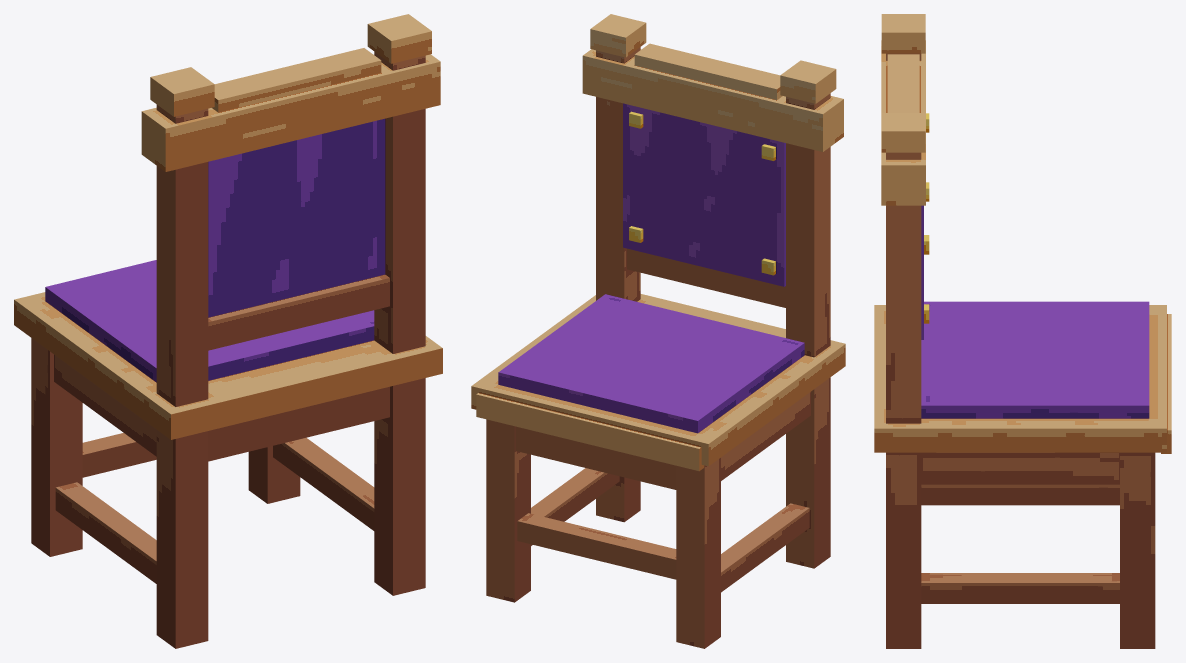
File: chair.gltf
3 renders of one model, left to right at view 1: azimuth 30°, elevation 25°; view 2: azimuth 150°, elevation 25°; view 3: azimuth 270°, elevation 25°, orthographic. The views are drawn at different scales.
Visible parts, largest first — view 1: cushion_back, leg_back_left, leg_back_right, seat_board, back_crest, cushion_seat, leg_front_left, back_rail_low, apron_back, back_crest_top, stretcher_side_left, stretcher_side_right (+5 smaller); view 2: cushion_seat, cushion_back, leg_back_left, seat_board, back_crest, leg_front_left, leg_back_right, leg_front_right, seat_board_lip, stretcher_front, apron_front, back_crest_top (+6 smaller); view 3: cushion_seat, leg_back_right, seat_board, leg_front_right, apron_side_right, stretcher_side_right, stretcher_side_left, back_crest, back_crest_top, leg_back_finial_right, leg_back_finial_left, seat_board_lip.
Part boxes in pixels (bbox=[...]): cushion_back: bbox=[208, 118, 385, 317]; leg_back_left: bbox=[156, 104, 208, 648]; leg_back_right: bbox=[374, 51, 425, 595]; seat_board: bbox=[14, 292, 442, 439]; back_crest: bbox=[141, 54, 440, 171]; cushion_seat: bbox=[45, 260, 374, 382]; leg_front_left: bbox=[31, 338, 82, 556]; back_rail_low: bbox=[208, 274, 389, 350]; apron_back: bbox=[208, 386, 389, 461]; back_crest_top: bbox=[212, 48, 381, 112]; stretcher_side_left: bbox=[55, 482, 156, 583]; stretcher_side_right: bbox=[273, 437, 374, 530]; cushion_seat: bbox=[498, 294, 804, 433]; cushion_back: bbox=[623, 103, 785, 286]; leg_back_left: bbox=[786, 93, 830, 568]; seat_board: bbox=[471, 294, 845, 466]; back_crest: bbox=[582, 49, 843, 151]; leg_front_left: bbox=[676, 458, 720, 648]; leg_back_right: bbox=[596, 47, 640, 522]; leg_front_right: bbox=[486, 419, 530, 602]; seat_board_lip: bbox=[476, 393, 704, 471]; stretcher_front: bbox=[517, 513, 676, 579]; apron_front: bbox=[515, 426, 676, 489]; back_crest_top: bbox=[634, 43, 782, 99]; cushion_seat: bbox=[921, 301, 1149, 418]; leg_back_right: bbox=[886, 152, 921, 648]; seat_board: bbox=[874, 305, 1166, 452]; leg_front_right: bbox=[1120, 452, 1155, 648]; apron_side_right: bbox=[921, 452, 1119, 484]; stretcher_side_right: bbox=[921, 573, 1119, 603]; stretcher_side_left: bbox=[921, 484, 1119, 505]; back_crest: bbox=[881, 40, 925, 205]; back_crest_top: bbox=[887, 54, 919, 112]; leg_back_finial_right: bbox=[881, 113, 925, 152]; leg_back_finial_left: bbox=[881, 14, 925, 53]; seat_board_lip: bbox=[1161, 314, 1171, 453].
Size of the model in its own units: 0.5063 by 0.98 by 0.508.
Materials: 3 (3 with a texture image).
